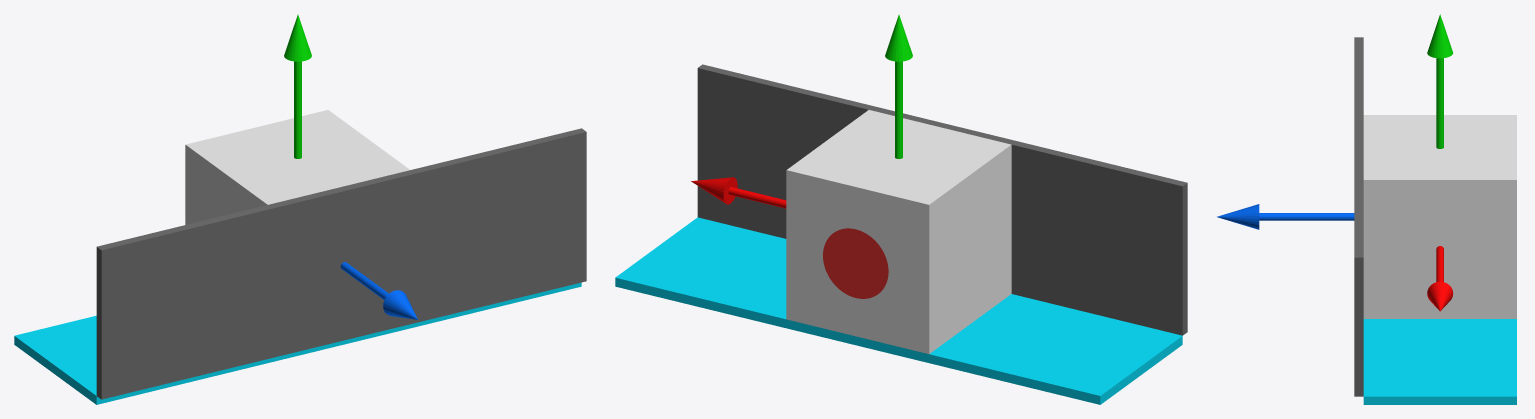
3 views of the same model, side by side, from view 1: azimuth 30°, elevation 25°; view 2: azimuth 150°, elevation 25°; view 3: azimuth 270°, elevation 25° (orthographic). The views are drawn at different scales.
Parts seen in each view (by area): view 1: solar_panel_blue_plate_normal_plus_Z_Y_dimension_equals_cube, cube_body, SAR_array_gray_plate_normal_minus_Y_Z_dimension_equals_cube_, body_axis_plus_Y_green, body_axis_plus_Z_blue; view 2: solar_panel_blue_plate_normal_plus_Z_Y_dimension_equals_cube, cube_body, SAR_array_gray_plate_normal_minus_Y_Z_dimension_equals_cube_, red_circle_thruster_minus_Z, body_axis_plus_Y_green, body_axis_plus_X_red; view 3: cube_body, SAR_array_gray_plate_normal_minus_Y_Z_dimension_equals_cube_, solar_panel_blue_plate_normal_plus_Z_Y_dimension_equals_cube, body_axis_plus_Y_green, body_axis_plus_Z_blue, body_axis_plus_X_red.
Part boxes in pixels (bbox=[...]): solar_panel_blue_plate_normal_plus_Z_Y_dimension_equals_cube: bbox=[96, 128, 586, 399]; cube_body: bbox=[185, 110, 409, 224]; SAR_array_gray_plate_normal_minus_Y_Z_dimension_equals_cube_: bbox=[14, 282, 581, 404]; body_axis_plus_Y_green: bbox=[284, 14, 311, 158]; body_axis_plus_Z_blue: bbox=[340, 262, 417, 319]; solar_panel_blue_plate_normal_plus_Z_Y_dimension_equals_cube: bbox=[697, 64, 1187, 335]; cube_body: bbox=[786, 110, 1011, 353]; SAR_array_gray_plate_normal_minus_Y_Z_dimension_equals_cube_: bbox=[615, 217, 1182, 404]; red_circle_thruster_minus_Z: bbox=[823, 228, 888, 298]; body_axis_plus_Y_green: bbox=[885, 14, 912, 158]; body_axis_plus_X_red: bbox=[691, 177, 786, 208]; cube_body: bbox=[1363, 115, 1516, 318]; SAR_array_gray_plate_normal_minus_Y_Z_dimension_equals_cube_: bbox=[1363, 319, 1516, 404]; solar_panel_blue_plate_normal_plus_Z_Y_dimension_equals_cube: bbox=[1354, 37, 1363, 396]; body_axis_plus_Y_green: bbox=[1427, 14, 1452, 148]; body_axis_plus_Z_blue: bbox=[1217, 204, 1354, 229]; body_axis_plus_X_red: bbox=[1427, 246, 1453, 311].
Size of the model in its own units: 3.4 by 2.02 by 1.99.
